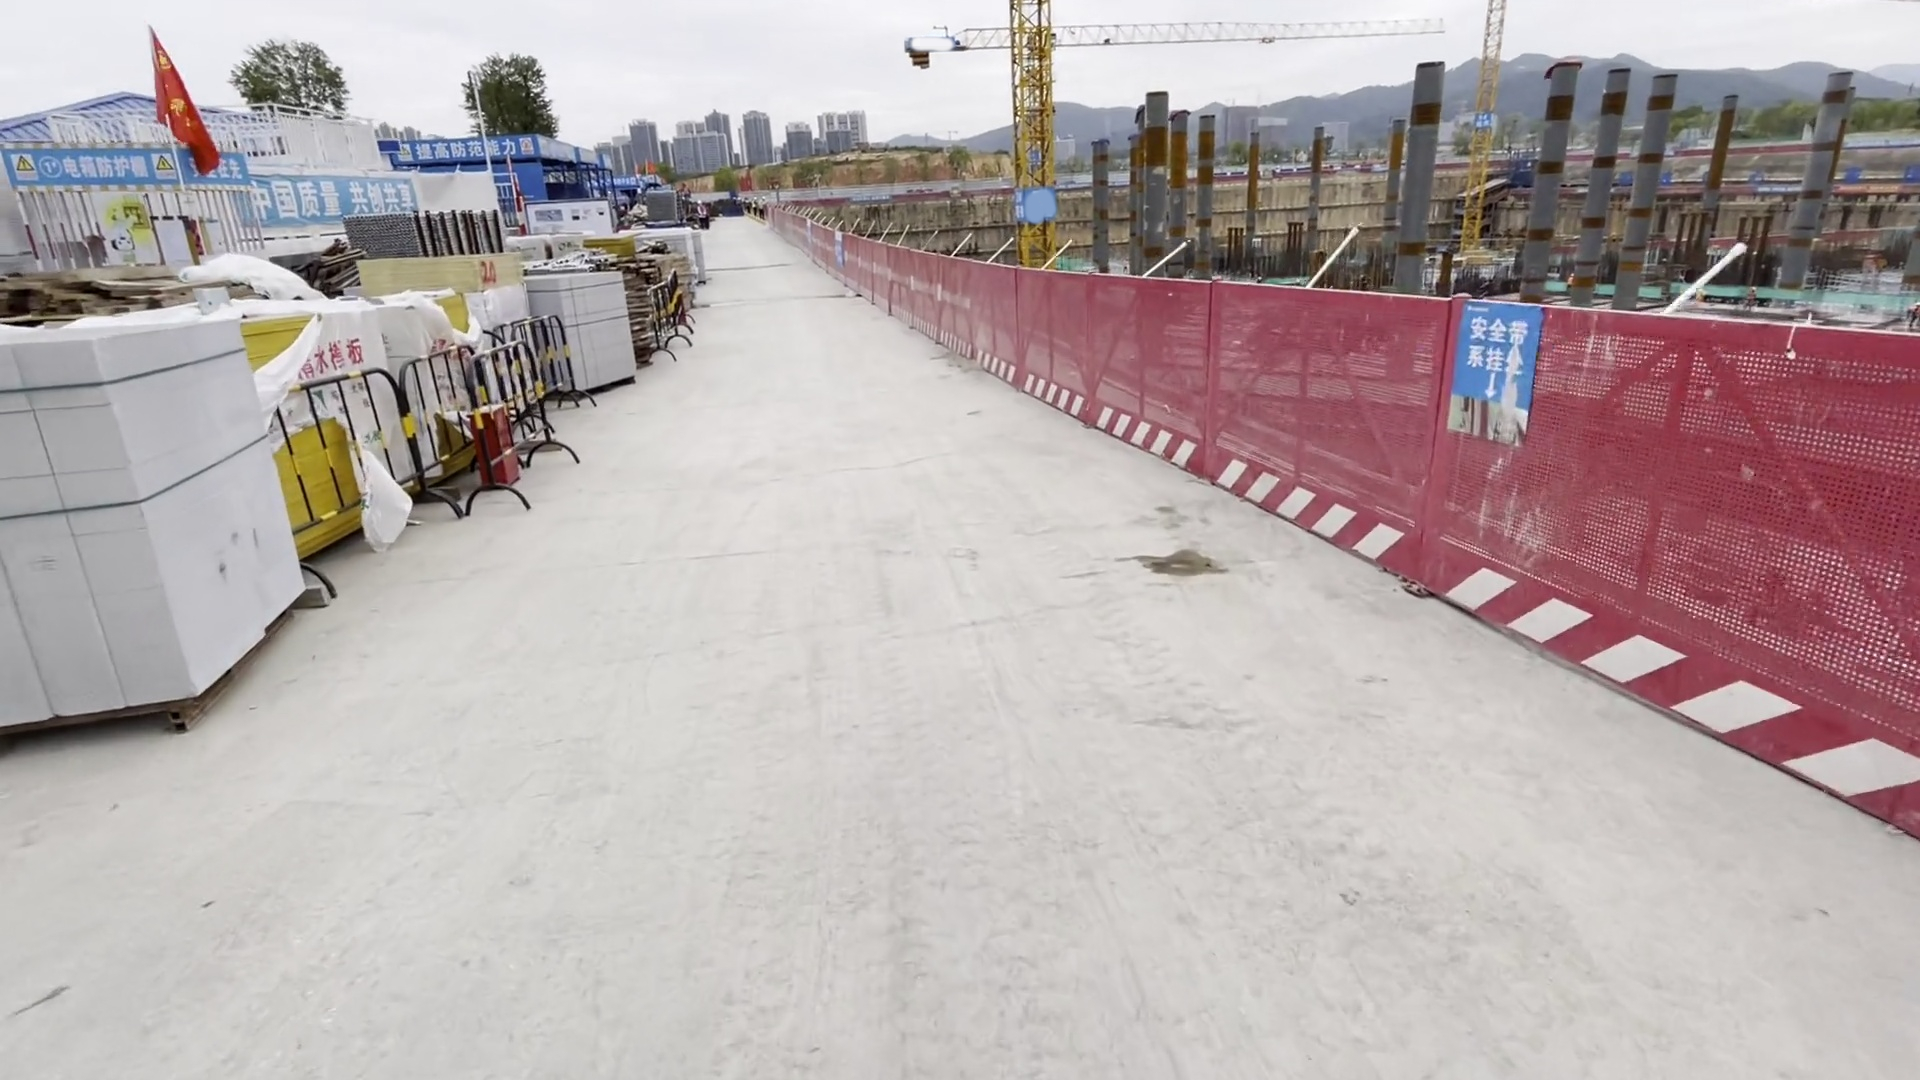board: (252, 313, 419, 535)
brick: (1, 309, 316, 737), (525, 272, 640, 410)
fence: (1211, 301, 1913, 836), (754, 179, 1216, 452), (281, 349, 559, 517)
slogan: (1, 152, 258, 189), (235, 181, 415, 232), (397, 135, 538, 160)
